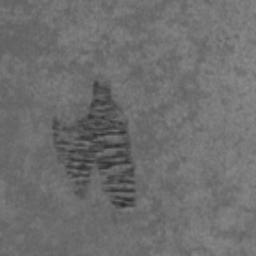Secondary rust skin: (51, 80, 137, 210)
